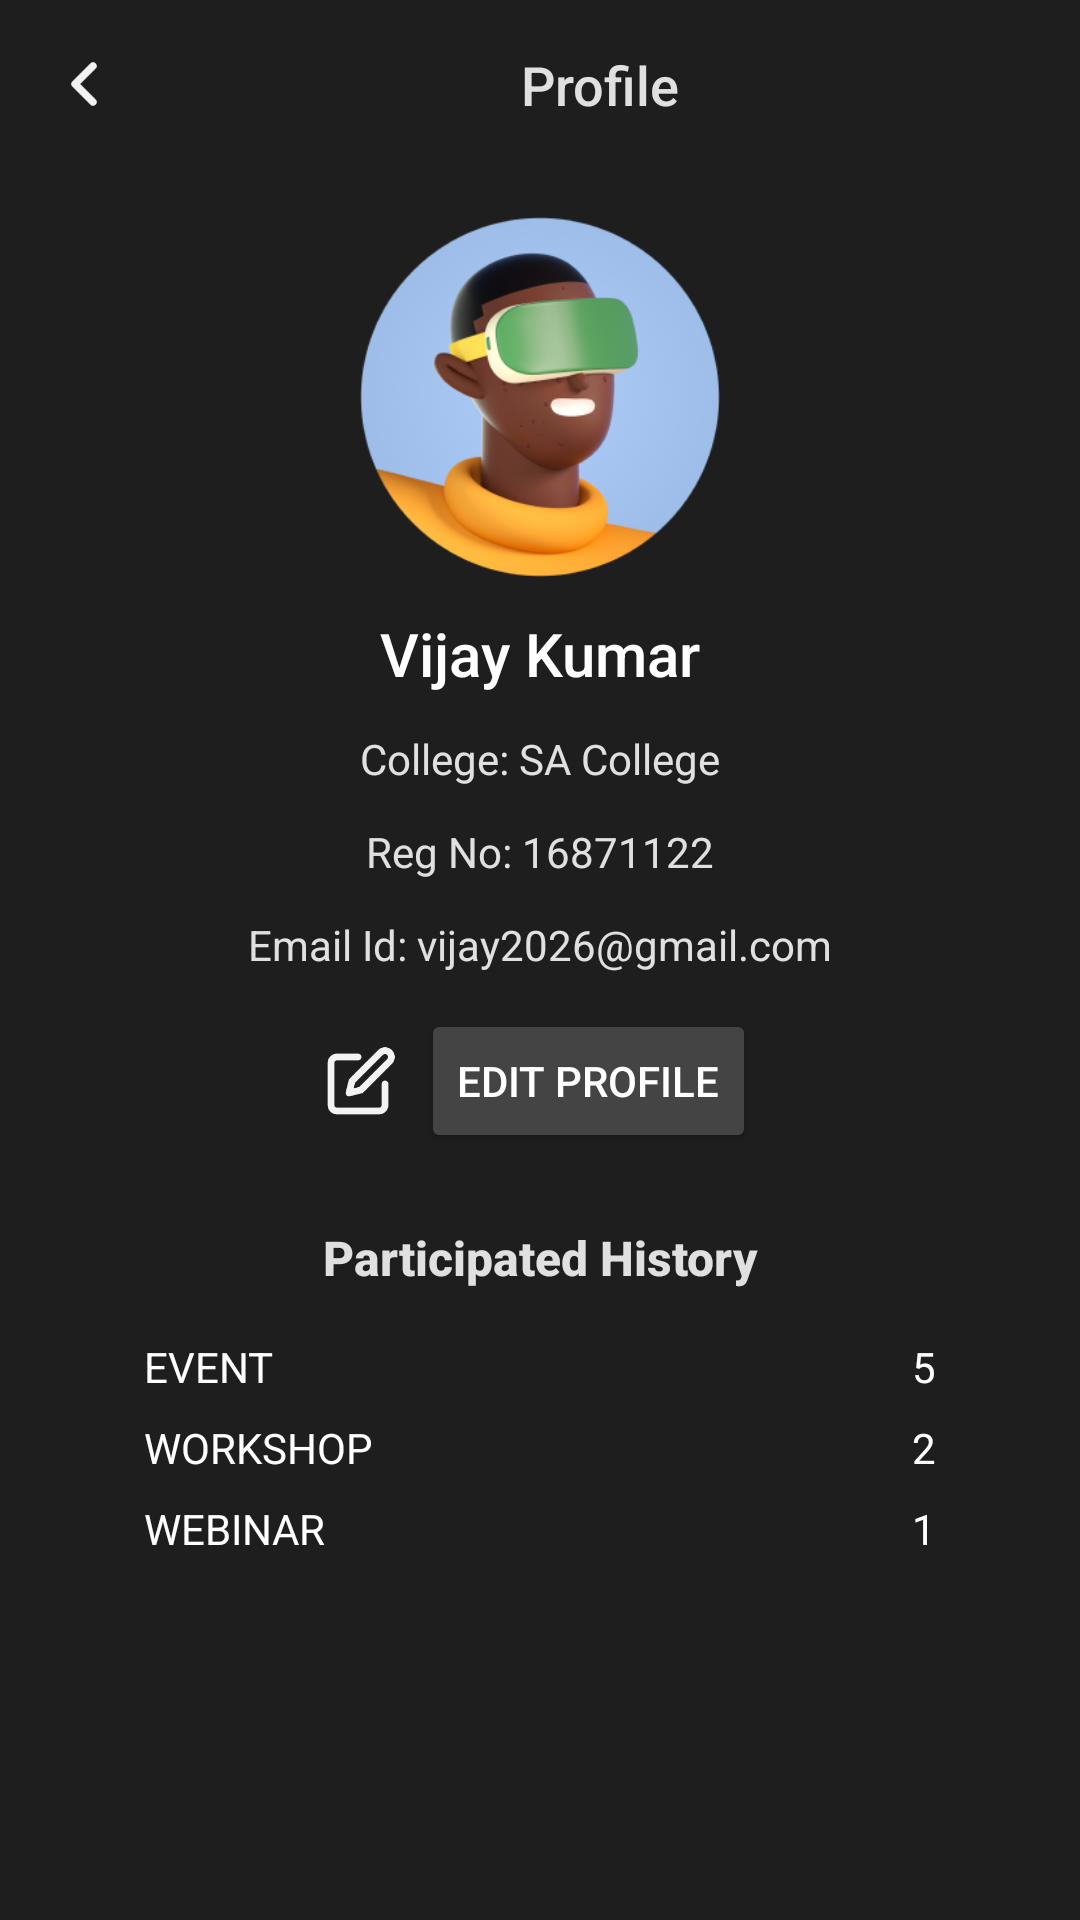

Icon bounding boxes for this 1080x1920 phone screenshot, format (x1, y1, x2, y2):
Back Arrow: (71, 62, 97, 106)
